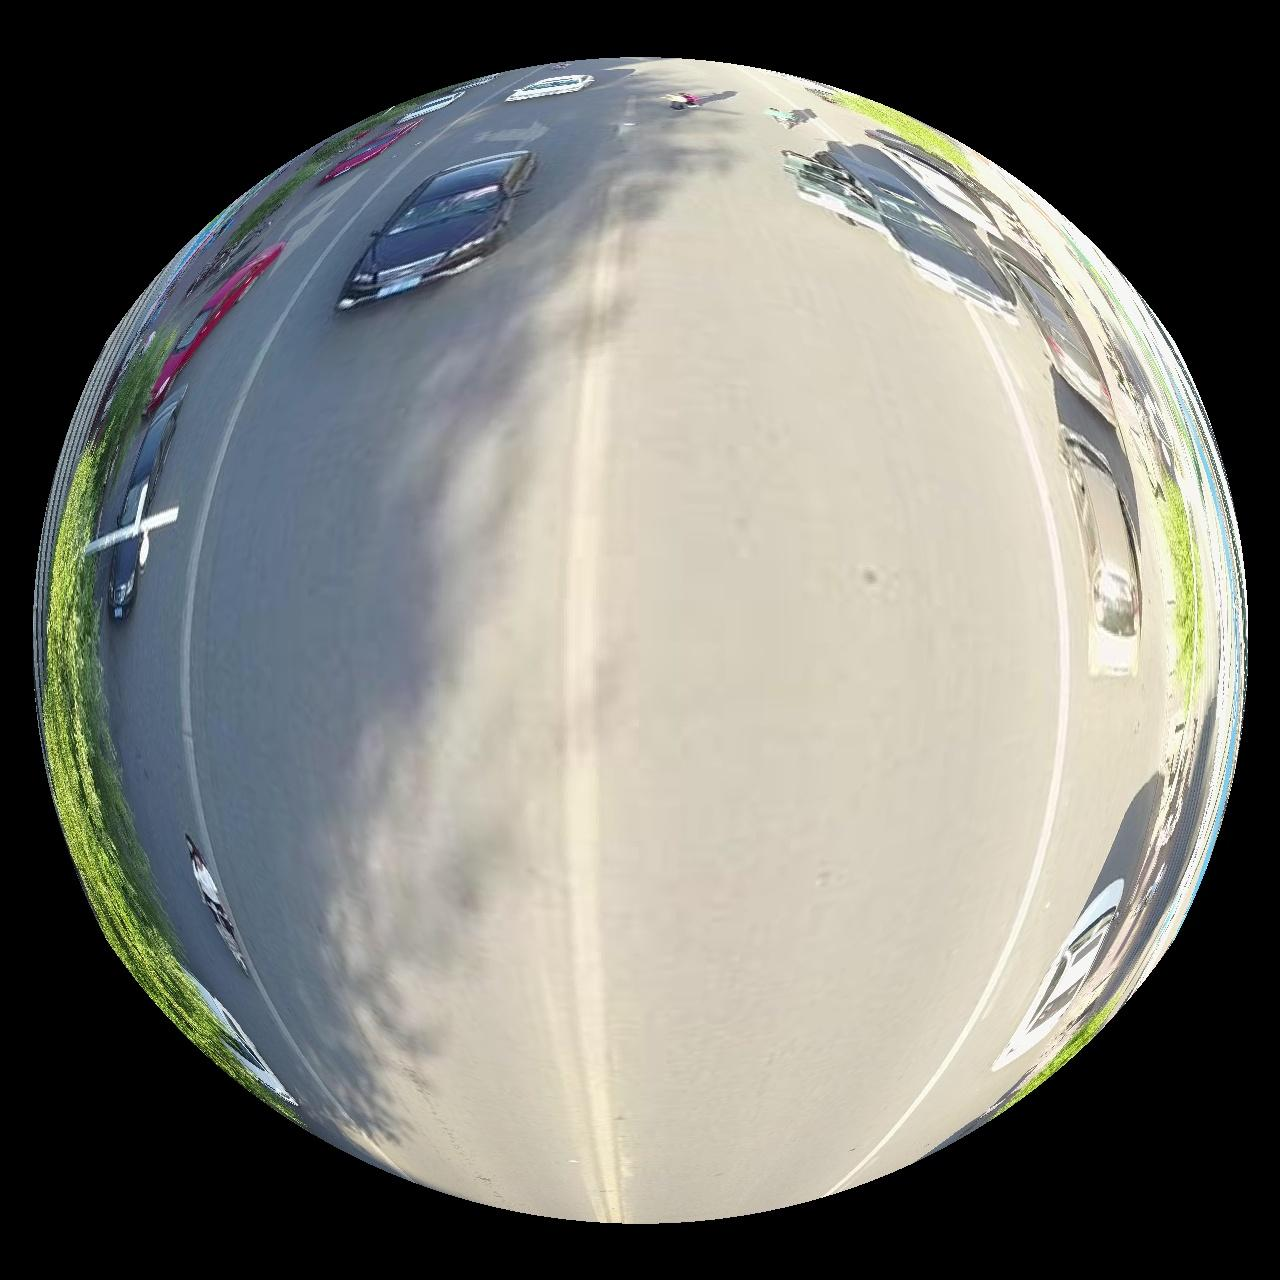cars: (336, 149, 535, 309), (994, 880, 1126, 1071), (147, 241, 285, 409), (1064, 425, 1143, 639), (110, 389, 182, 620), (318, 120, 418, 183), (506, 73, 594, 101)
